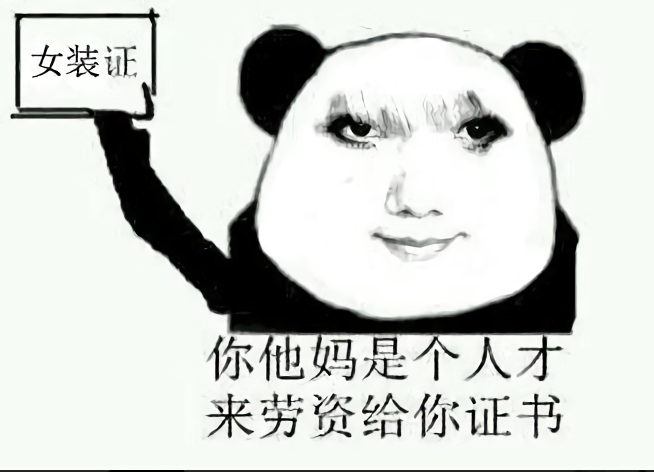dragon: (313, 89, 519, 265)
